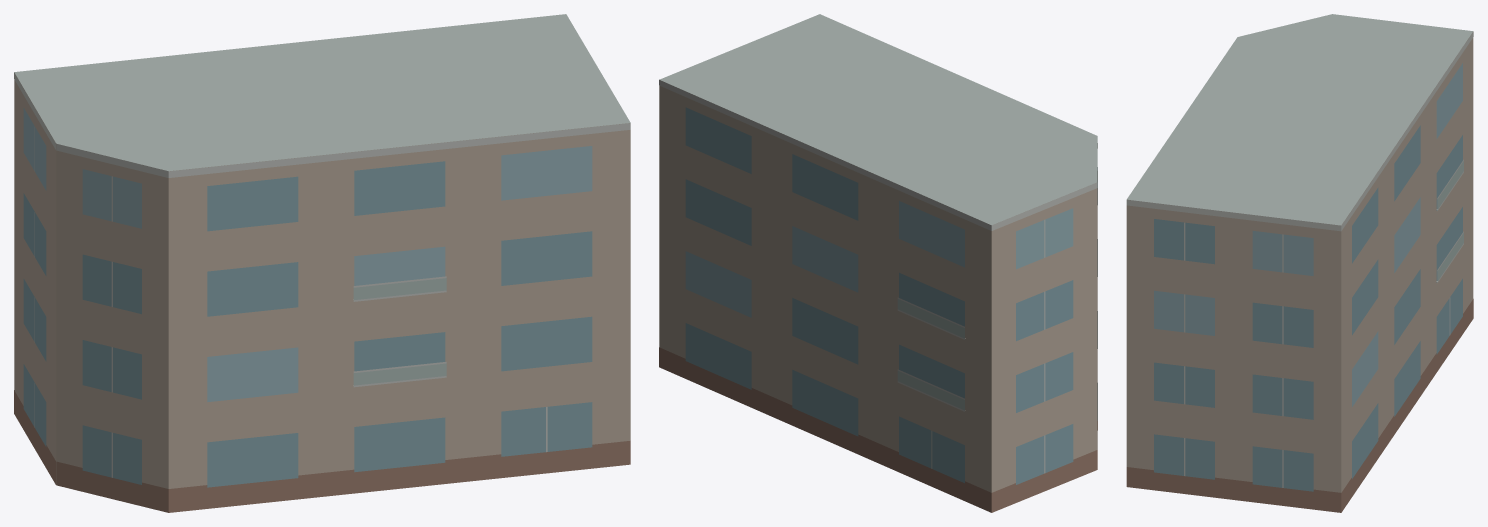
Rendered from survey-upis-32942669.glb.
3 views of the same model, side by side, from view 1: azimuth 30°, elevation 25°; view 2: azimuth 150°, elevation 25°; view 3: azimuth 270°, elevation 25° (orthographic). The views are drawn at different scales.
Parts seen in each view (by area): view 1: survey-upis-32942669.tmp; view 2: survey-upis-32942669.tmp; view 3: survey-upis-32942669.tmp.
Part boxes in pixels (left/top/right/bottom): survey-upis-32942669.tmp: left=14, top=14, right=630, bottom=512; survey-upis-32942669.tmp: left=659, top=14, right=1097, bottom=512; survey-upis-32942669.tmp: left=1126, top=14, right=1473, bottom=512.
Bounding box in the file's own units: 19.11 × 12.1 × 13.25.
